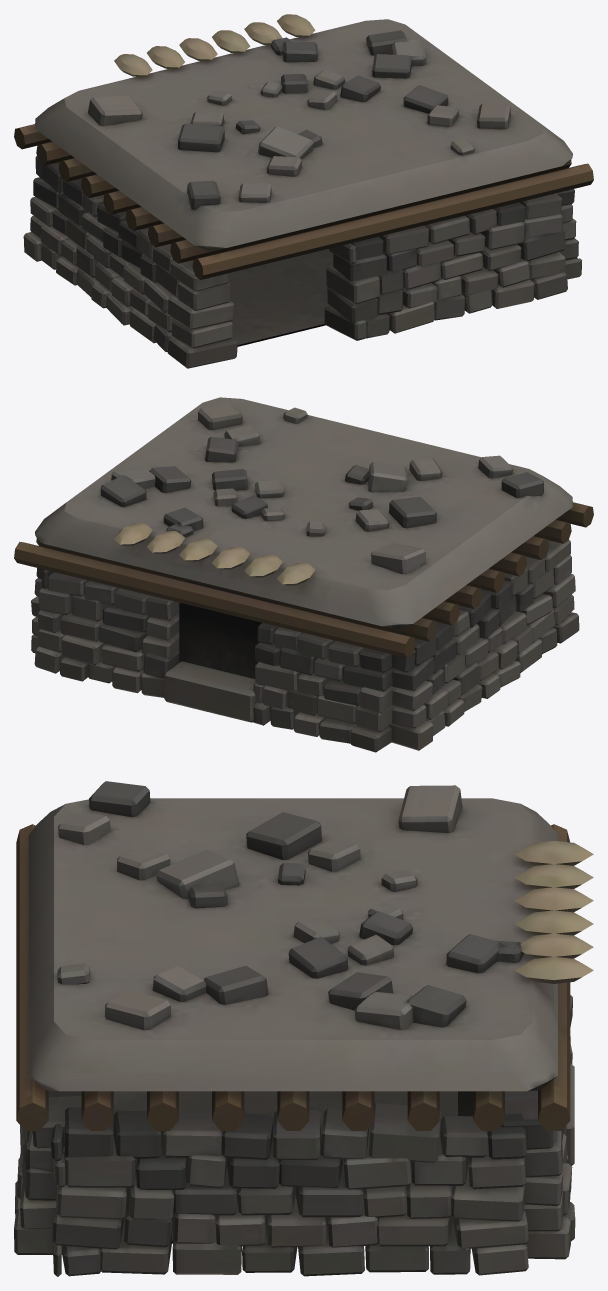
The model's file is bunker.glb.
The picture shows the model from 3 angles, top to bottom: view 1: azimuth 30°, elevation 25°; view 2: azimuth 150°, elevation 25°; view 3: azimuth 270°, elevation 25°; orthographic projection. The views are drawn at different scales.
Visible parts, largest first — view 1: structure; view 2: structure; view 3: structure.
Part boxes in pixels (x1=…): structure: x1=14, y1=14, x2=593, y2=368; structure: x1=14, y1=397, x2=593, y2=752; structure: x1=14, y1=781, x2=593, y2=1276.
Bounding box in the file's own units: 4.9 × 1.97 × 4.22.
1 material, 1 textured.
